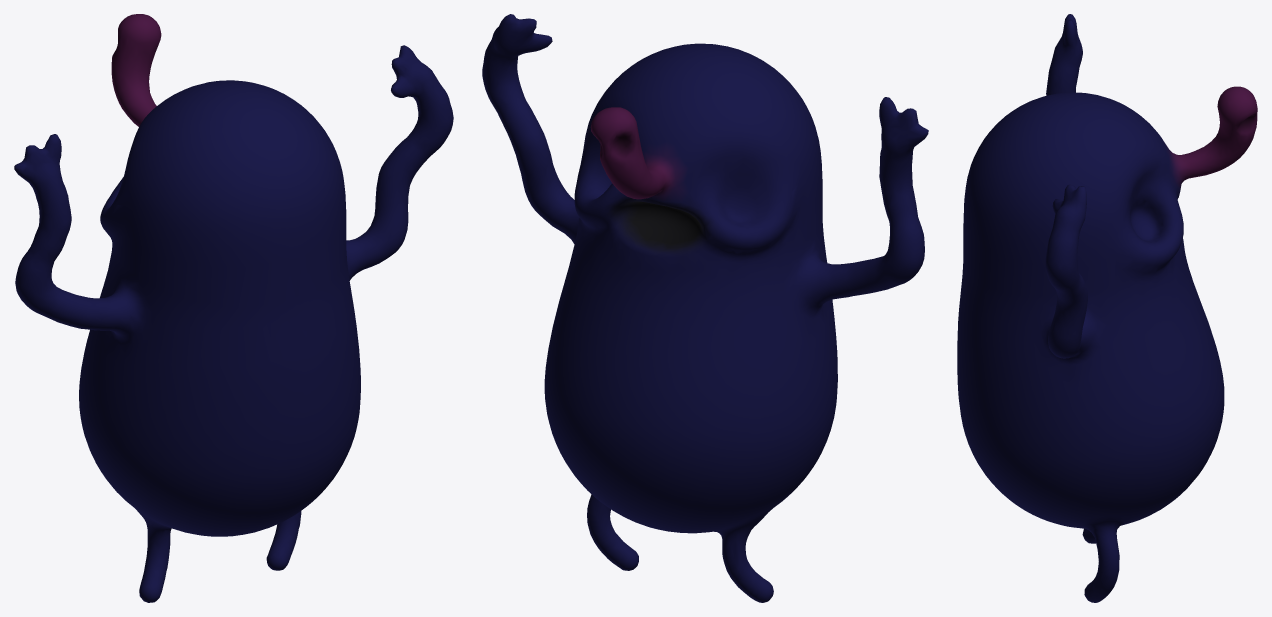
File: untitle34.fbx
The picture shows the model from 3 angles, left to right: view 1: azimuth 30°, elevation 25°; view 2: azimuth 150°, elevation 25°; view 3: azimuth 270°, elevation 25°; orthographic projection. The views are drawn at different scales.
Parts seen in each view (by area): view 1: bodyContainer__1_; view 2: bodyContainer__1_; view 3: bodyContainer__1_.
Part boxes in pixels (x1,y1,x2,y2): bodyContainer__1_: [14, 14, 453, 602]; bodyContainer__1_: [482, 14, 928, 602]; bodyContainer__1_: [957, 14, 1257, 602].
Size of the model in its own units: 452 by 515 by 290.
